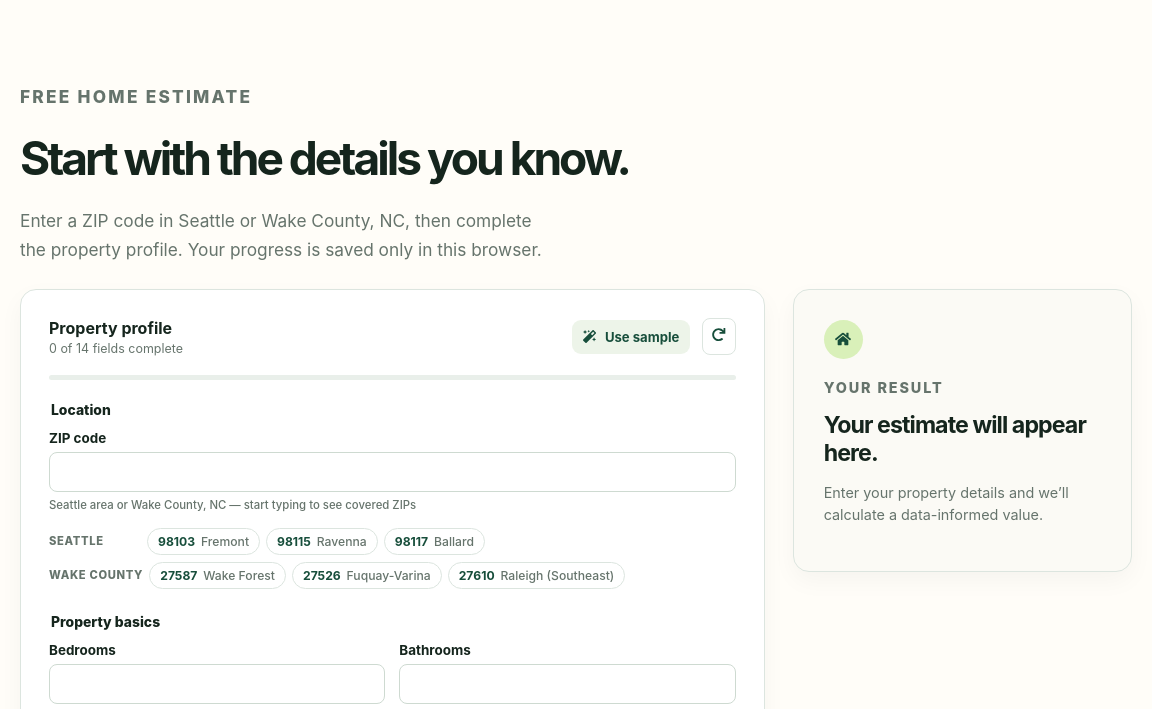
Test: explains which markets are covered for other ZIP codes
Type "10001" into the field labelled "ZIP code".
click(392, 472); type("10001")  # box [49,452,736,492]
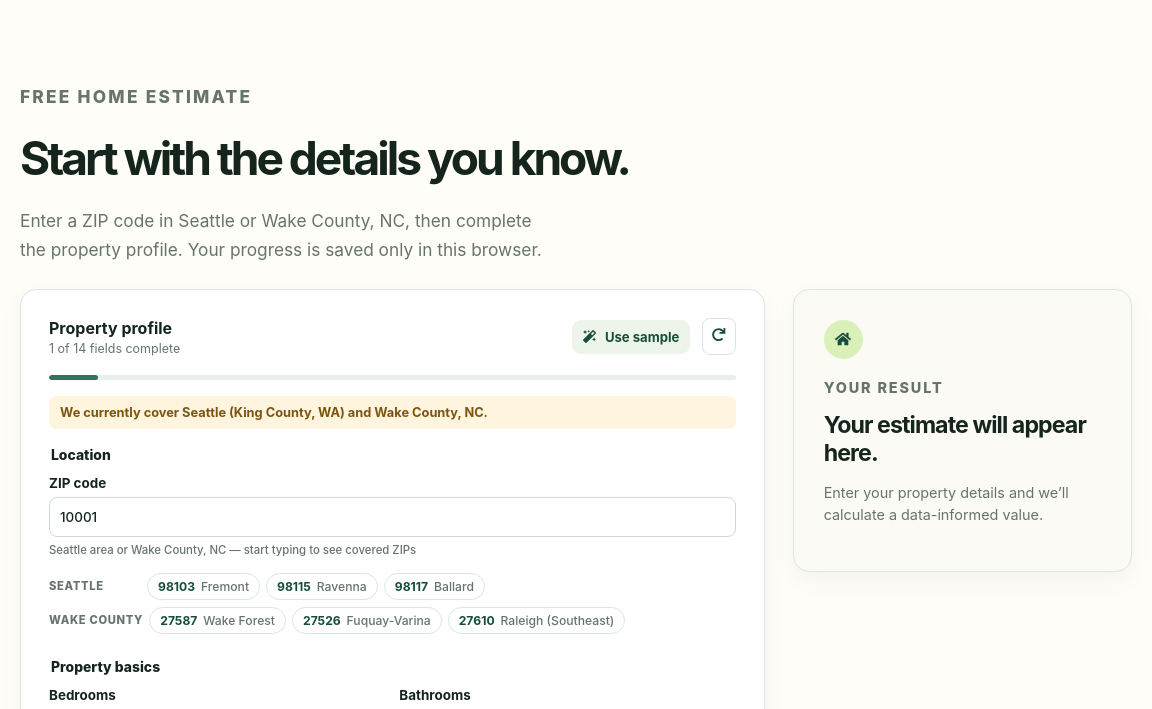
Result: the message reads "We currently cover Seattle (King County, WA) and Wake County, NC." at [60,405,488,420]
